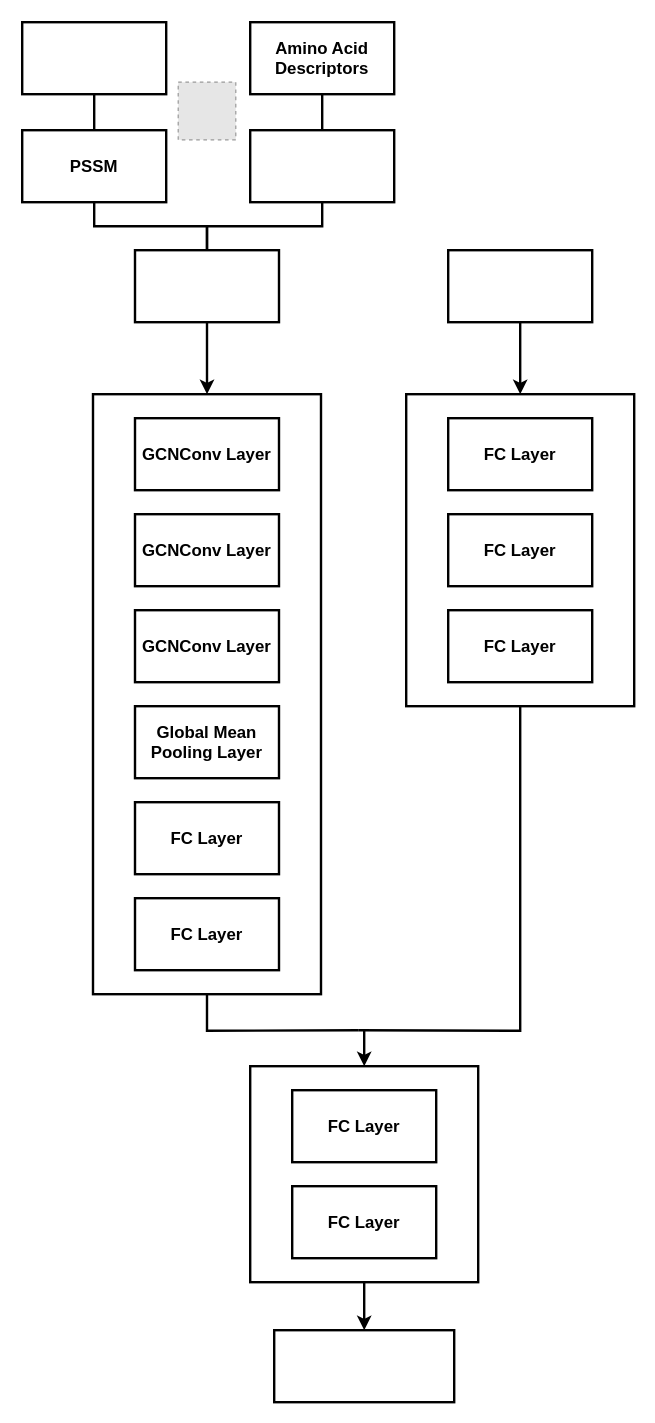
The diagram is 655 pixels wide and 1423 high, and some of its shapes have lost their labels. Grey dashed boxes stand in for pictures. Here are the shapes that lost their labels. From the top down, the centre of each, then its label:
At (x=93, y=57): "Protein Contact Map".
At (x=321, y=165): "Amino Acid Embeddings".
At (x=206, y=285): "Protein Graph".
At (x=519, y=285): "Protein Sequence Descriptors".
At (x=363, y=1365): "DNA Binding".
